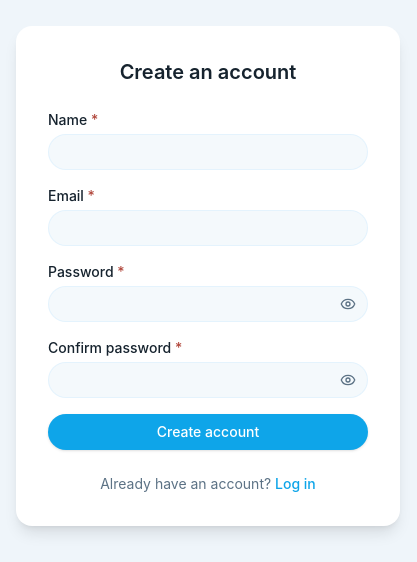
Test: Register › shows an error when passwords don't match
The width and height of the screenshot is (417, 562).
Type "Rahul" into the field labelled "Name *".
click(208, 152); type("Rahul")  # box [48,134,368,170]
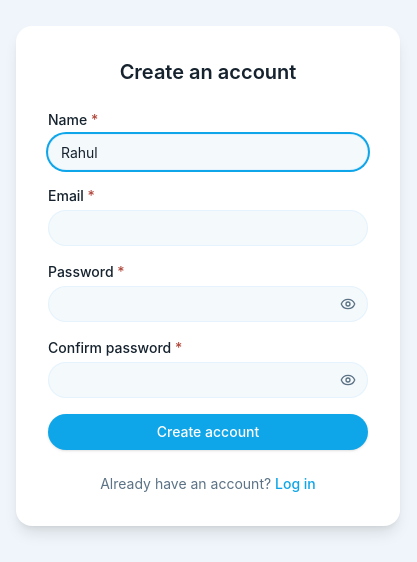
Type "user@example.com" into the field labelled "Email *".
click(208, 228); type("user@example.com")  # box [48,210,368,246]
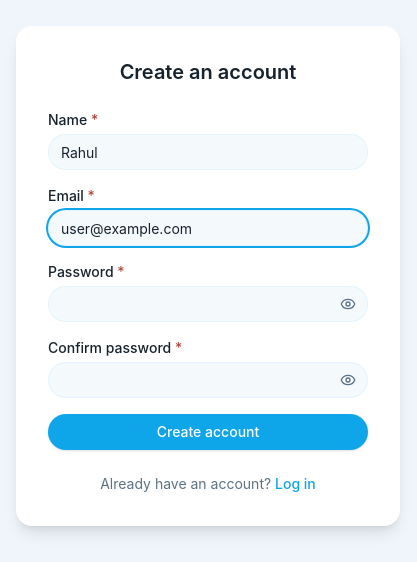
Type "password123" into the password field labelled "Password *".
click(208, 304); type("password123")  # box [48,286,368,322]
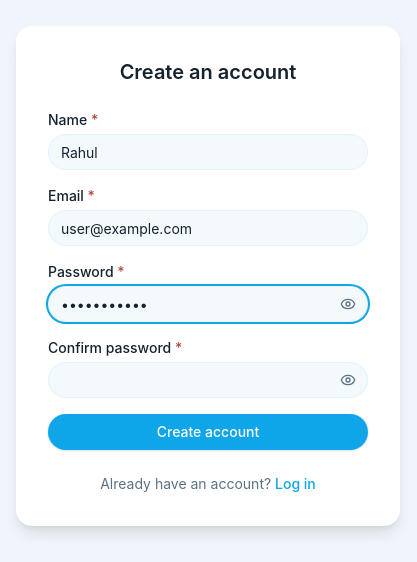
Type "password456" into the password field labelled "Confirm password *".
click(208, 380); type("password456")  # box [48,362,368,398]
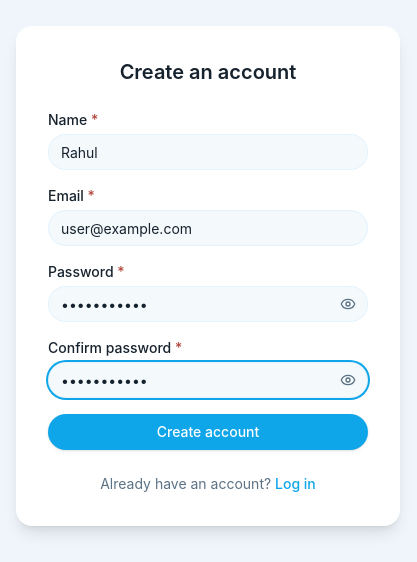
Click the button "Create account".
click(208, 432)  # box [48,414,368,450]
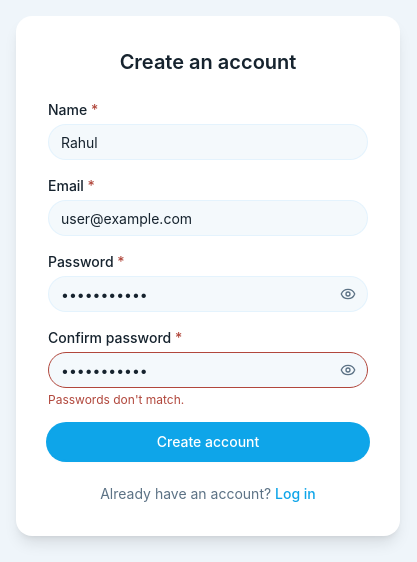
Now the text "Passwords don't match." is shown, box [48,392,184,407]
